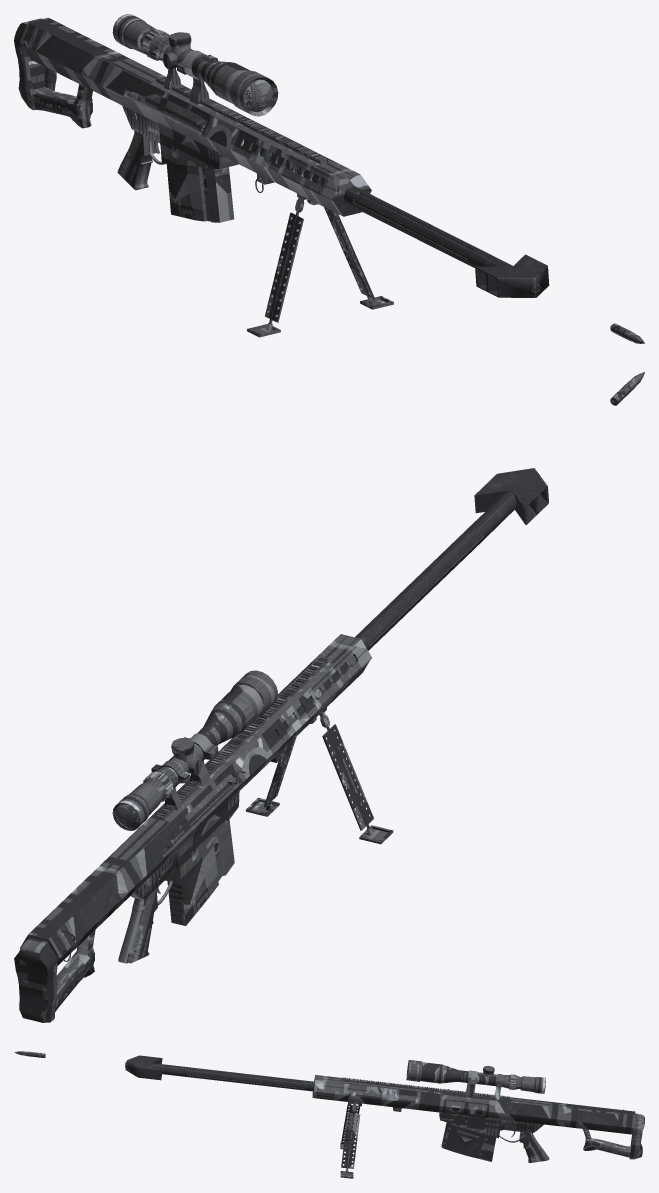
The picture shows the model from 3 angles, top to bottom: view 1: azimuth 30°, elevation 25°; view 2: azimuth 150°, elevation 25°; view 3: azimuth 270°, elevation 25°; orthographic projection. The views are drawn at different scales.
Parts seen in each view (by area): view 1: NGon002, Box002, Cylinder008, Cylinder001, Rectangle001, OilTank002; view 2: NGon002, Box002, Cylinder008, Cylinder001, Rectangle001; view 3: NGon002, Box002, Cylinder008, Cylinder001, Rectangle001.
Part boxes in pixels (<box>): NGon002: <box>14,17,371,216</box>; Box002: <box>117,105,238,222</box>; Cylinder008: <box>112,14,278,116</box>; Cylinder001: <box>344,186,549,297</box>; Rectangle001: <box>247,193,393,337</box>; OilTank002: <box>244,80,272,112</box>; NGon002: <box>14,634,371,1022</box>; Box002: <box>118,790,239,963</box>; Cylinder008: <box>112,670,277,830</box>; Cylinder001: <box>355,468,548,650</box>; Rectangle001: <box>246,707,393,844</box>; NGon002: <box>312,1075,644,1159</box>; Box002: <box>439,1112,549,1162</box>; Cylinder008: <box>406,1060,545,1099</box>; Cylinder001: <box>125,1055,314,1091</box>; Rectangle001: <box>340,1102,361,1178</box>.
Bounding box in the file's own units: 0.1831 × 0.2799 × 1.45.
1 material, 1 textured.
